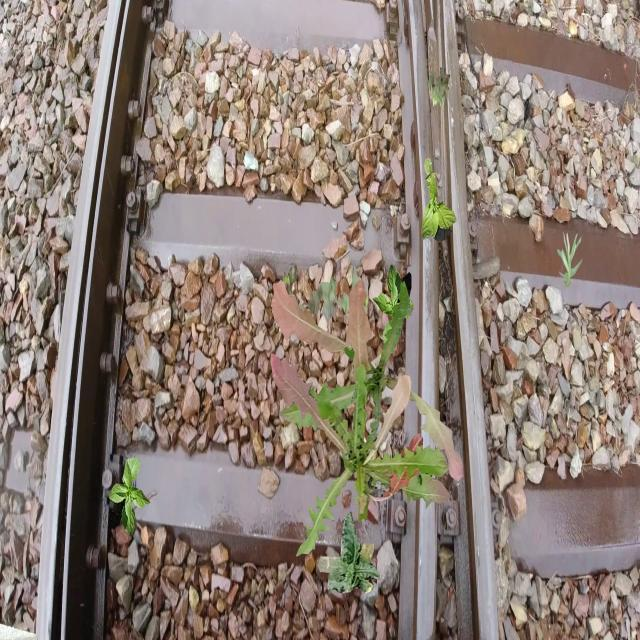Plant: (271, 279, 451, 557), (271, 279, 464, 482), (282, 264, 368, 332), (317, 511, 380, 594), (372, 265, 414, 345), (109, 458, 151, 538), (421, 158, 456, 242), (557, 231, 584, 288), (425, 67, 451, 110)
